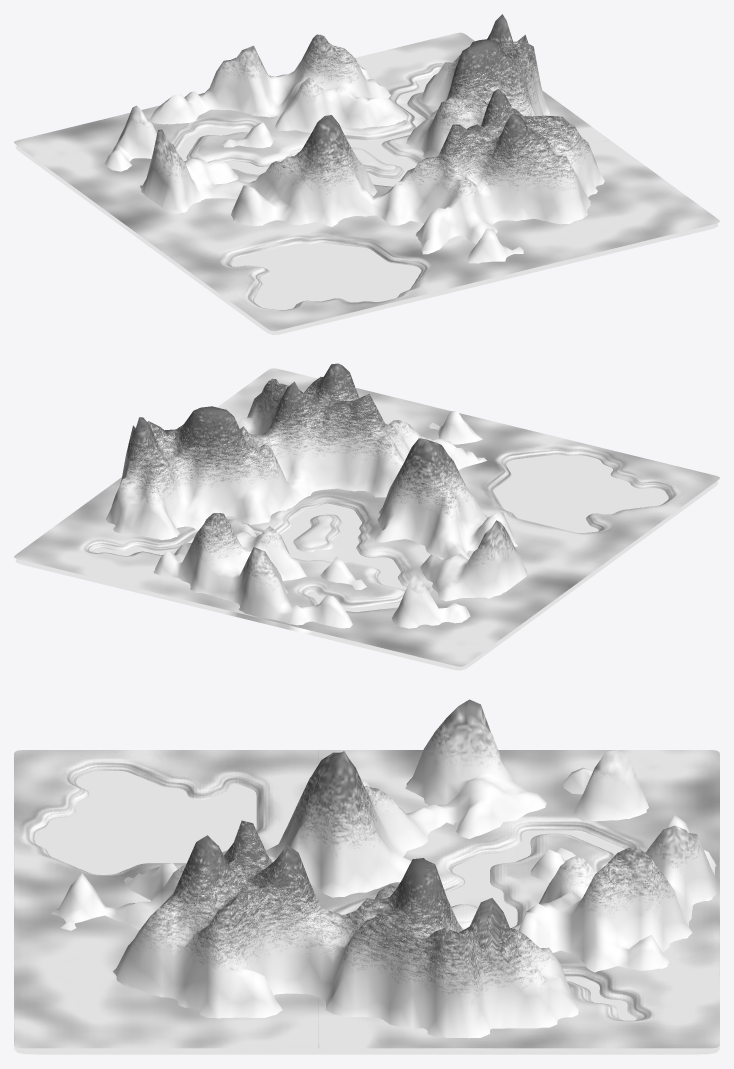
File: Area22.fbx
3 renders of one model, top to bottom at view 1: azimuth 30°, elevation 25°; view 2: azimuth 150°, elevation 25°; view 3: azimuth 270°, elevation 25°, orthographic. The views are drawn at different scales.
Parts seen in each view (by area): view 1: 骞抽潰_Baked002, 骞抽潰_003; view 2: 骞抽潰_Baked002, 骞抽潰_003; view 3: 骞抽潰_Baked002, 骞抽潰_003.
Boxes of the visible parts, left/top/right/bottom form: 骞抽潰_Baked002: left=15, top=14, right=718, bottom=334; 骞抽潰_003: left=14, top=32, right=719, bottom=330; 骞抽潰_Baked002: left=15, top=363, right=718, bottom=670; 骞抽潰_003: left=14, top=368, right=719, bottom=666; 骞抽潰_Baked002: left=14, top=699, right=719, bottom=1054; 骞抽潰_003: left=14, top=750, right=719, bottom=1048.
Size of the model in its own units: 189 by 39.7 by 189.
